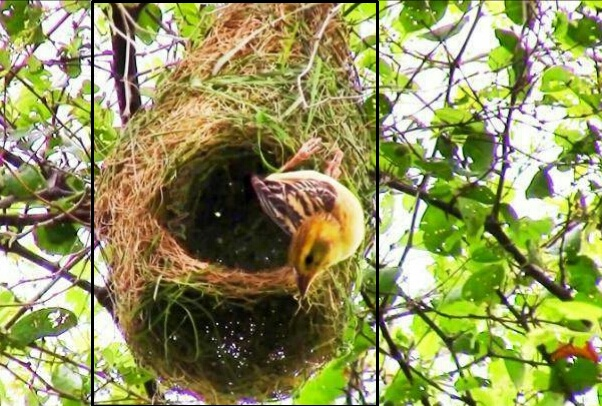bird-nest: (92, 1, 377, 406)
